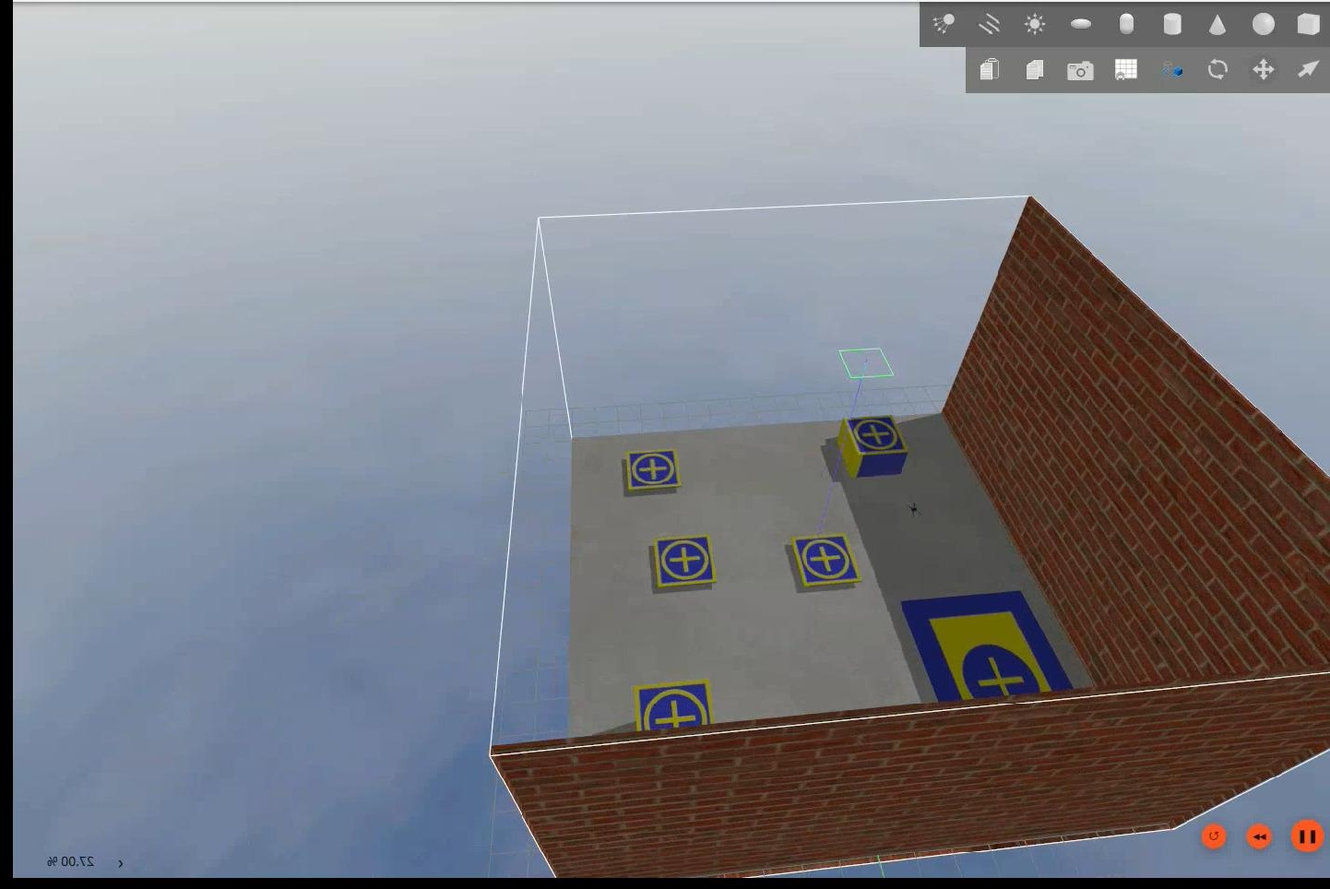large_base: (898, 589, 1074, 705)
small_base: (632, 681, 710, 735), (790, 534, 859, 587), (651, 534, 715, 590), (623, 447, 681, 492), (842, 415, 907, 454)
